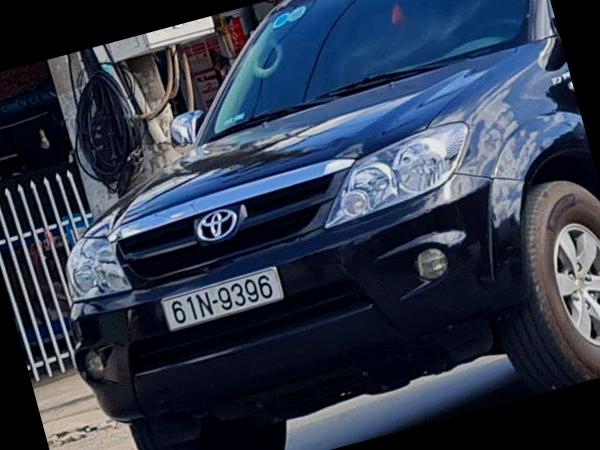lisence: (162, 267, 283, 332)
